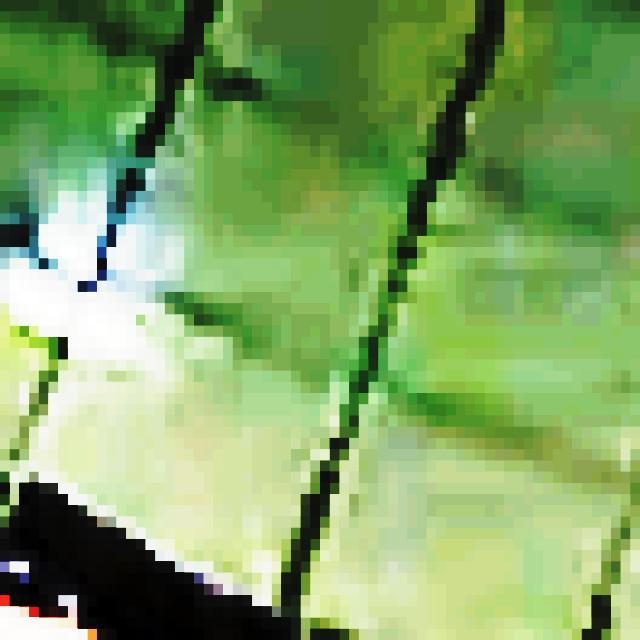arms: (0, 438, 368, 640)
